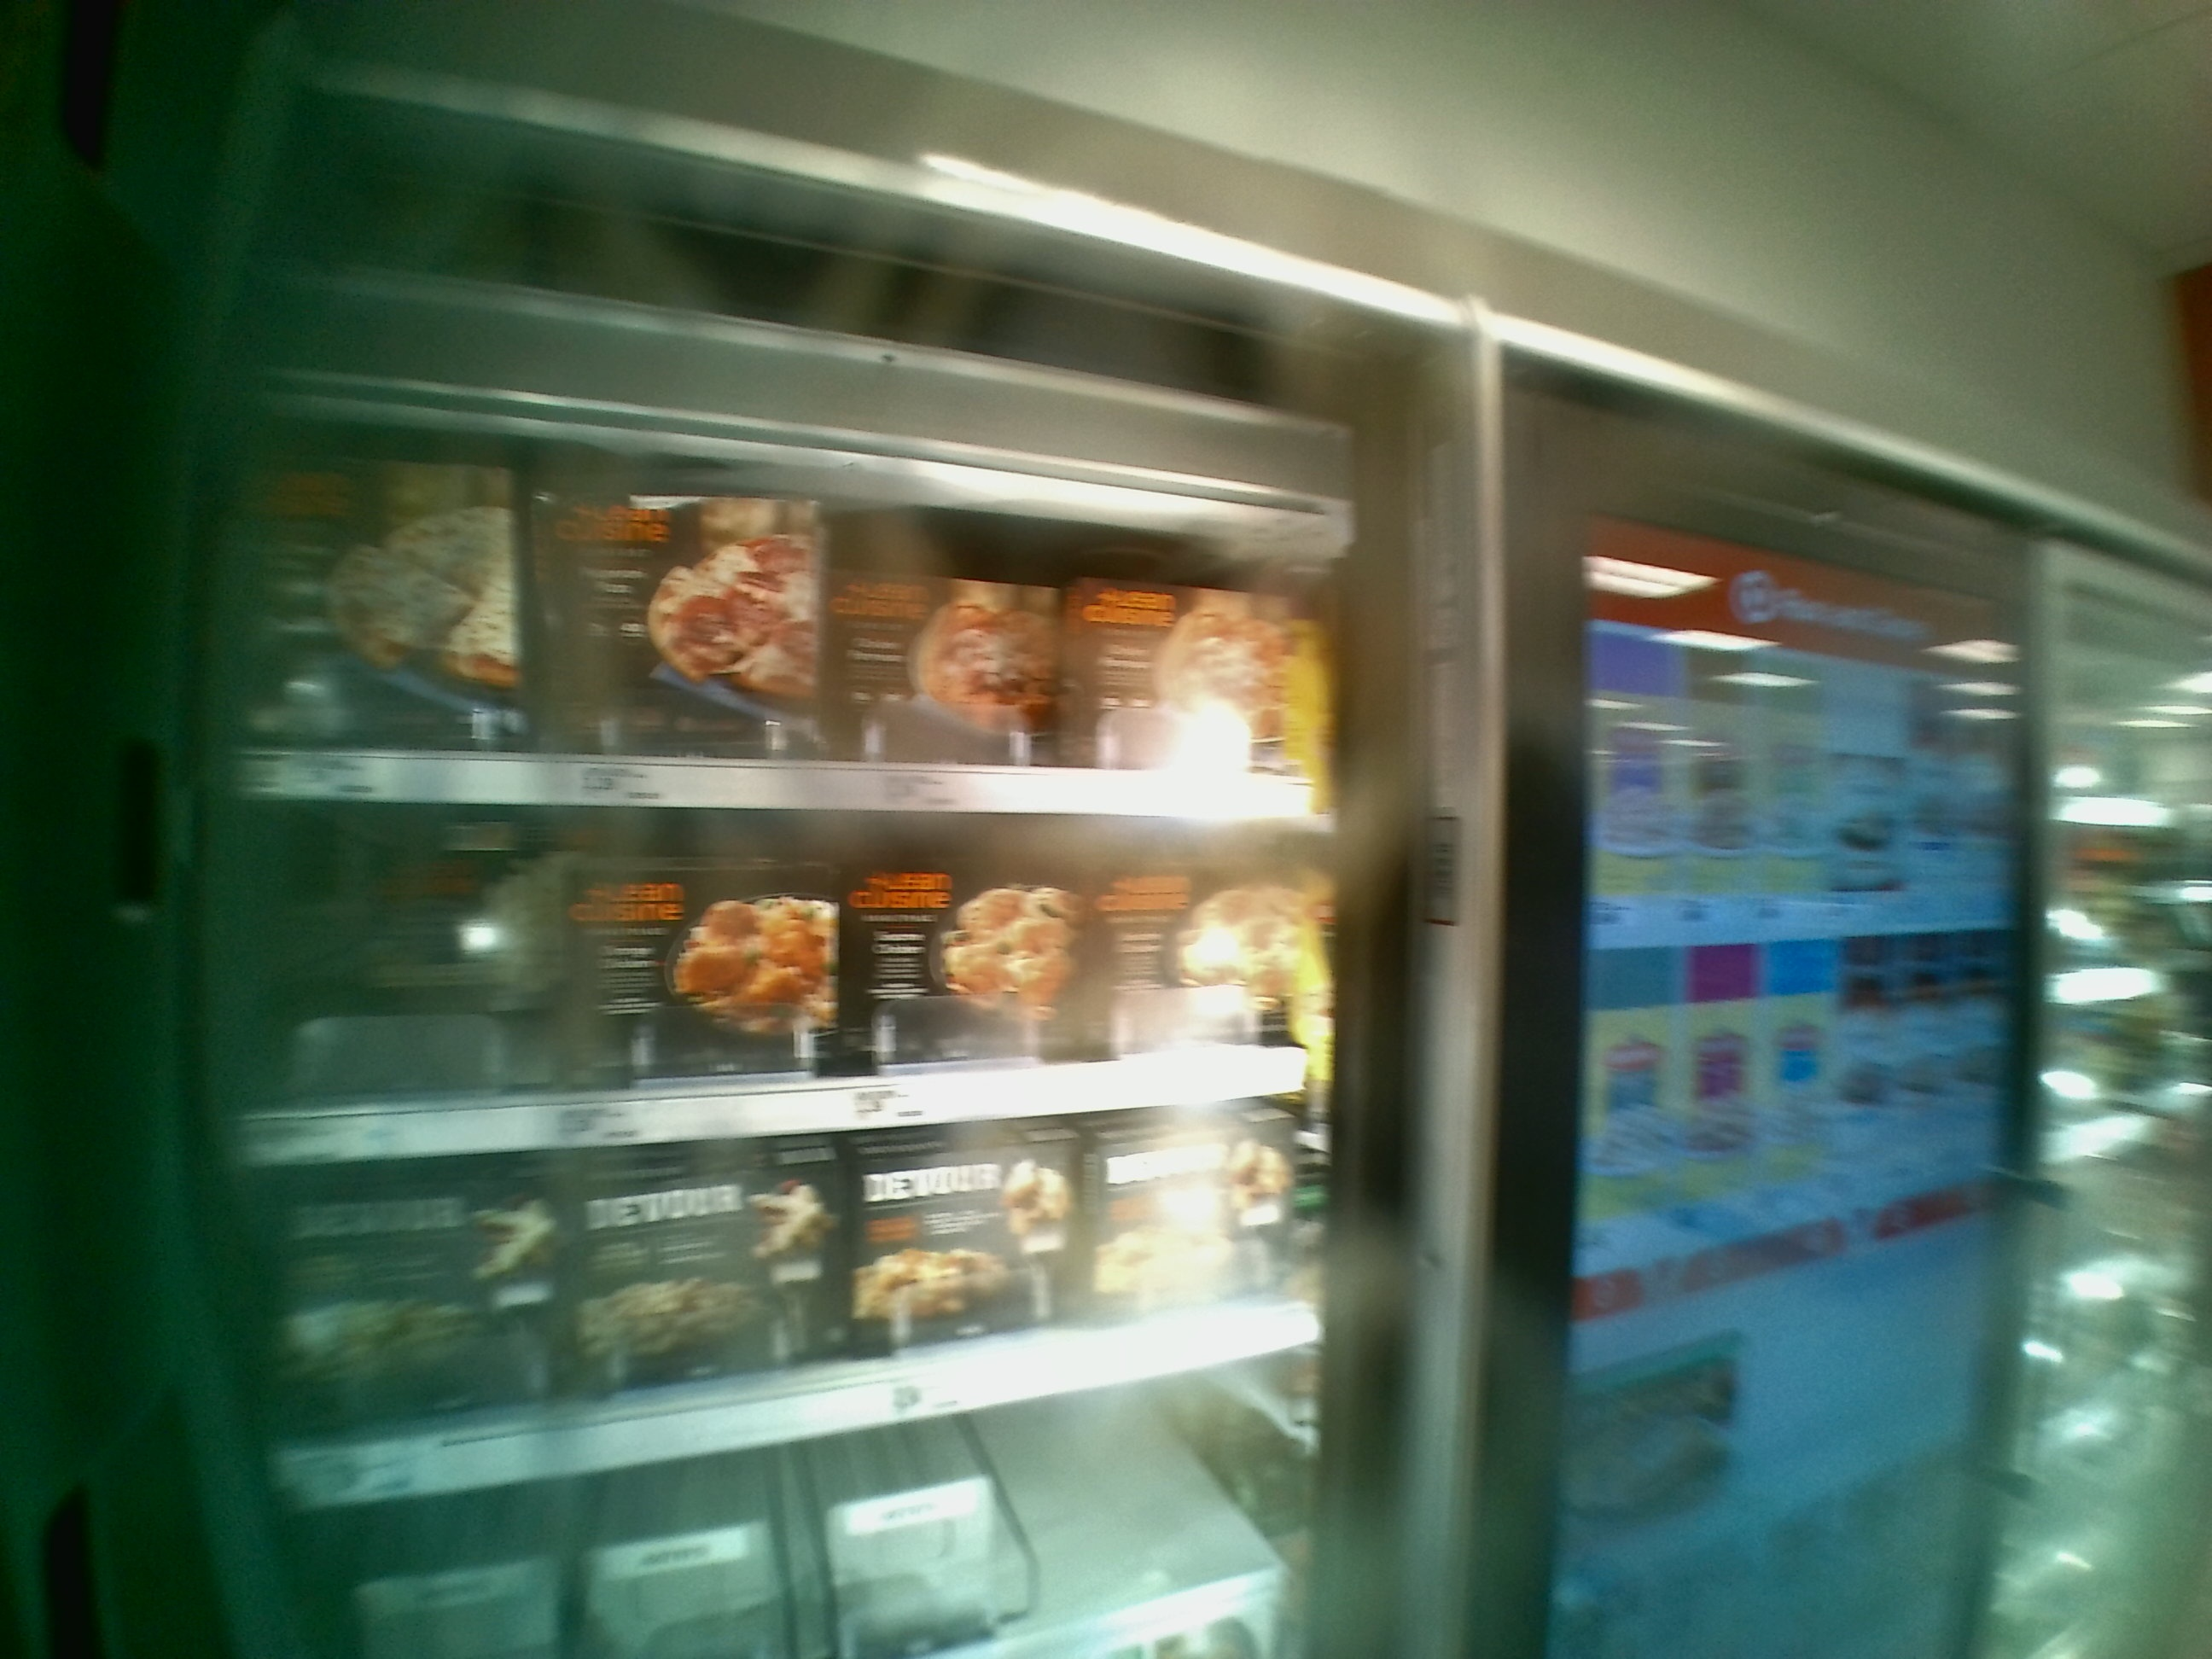Shelf: (212, 410, 1327, 823), (216, 796, 1331, 1183)
